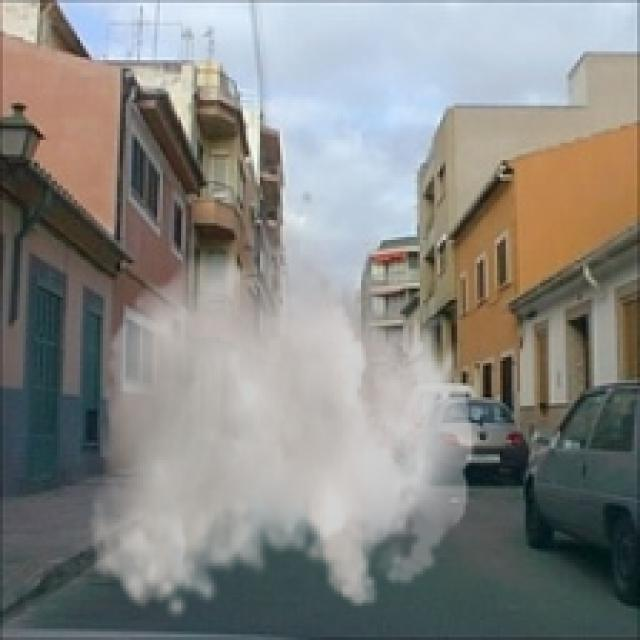Smoke: (88, 197, 474, 623)
